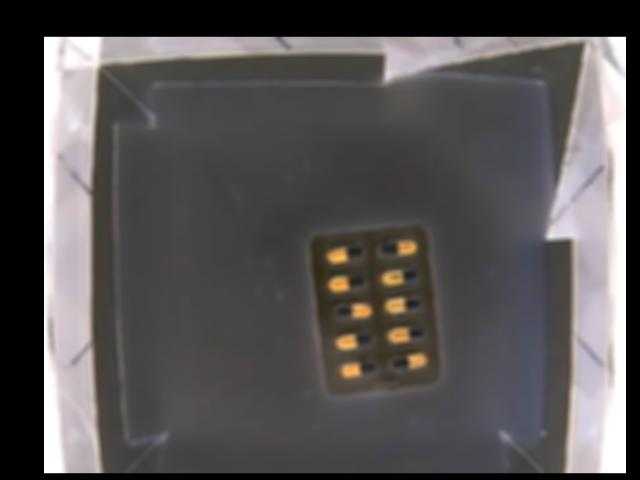Medicine: (307, 221, 441, 396)
